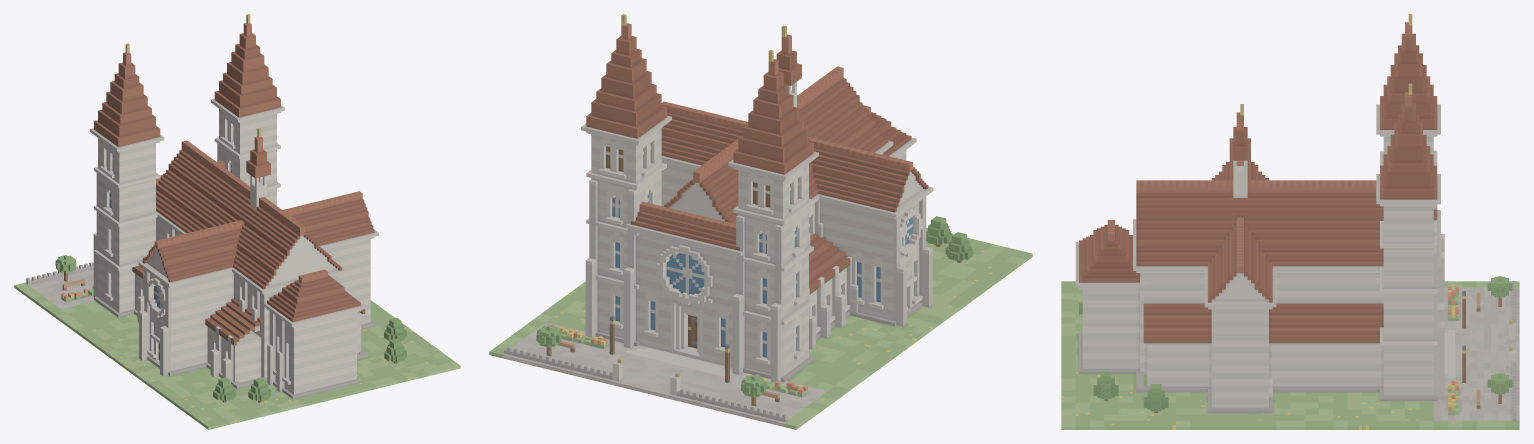
The model's file is cathedral.glb.
3 renders of one model, left to right at view 1: azimuth 30°, elevation 25°; view 2: azimuth 150°, elevation 25°; view 3: azimuth 270°, elevation 25°, orthographic. The views are drawn at different scales.
Visible parts, largest first — view 1: cathedral; view 2: cathedral; view 3: cathedral.
Boxes of the visible parts, x1=… form: cathedral: x1=14, y1=14, x2=460, y2=429; cathedral: x1=489, y1=14, x2=1032, y2=429; cathedral: x1=1061, y1=14, x2=1519, y2=429.
Bounding box in the file's own units: 12 × 11.88 × 16.
